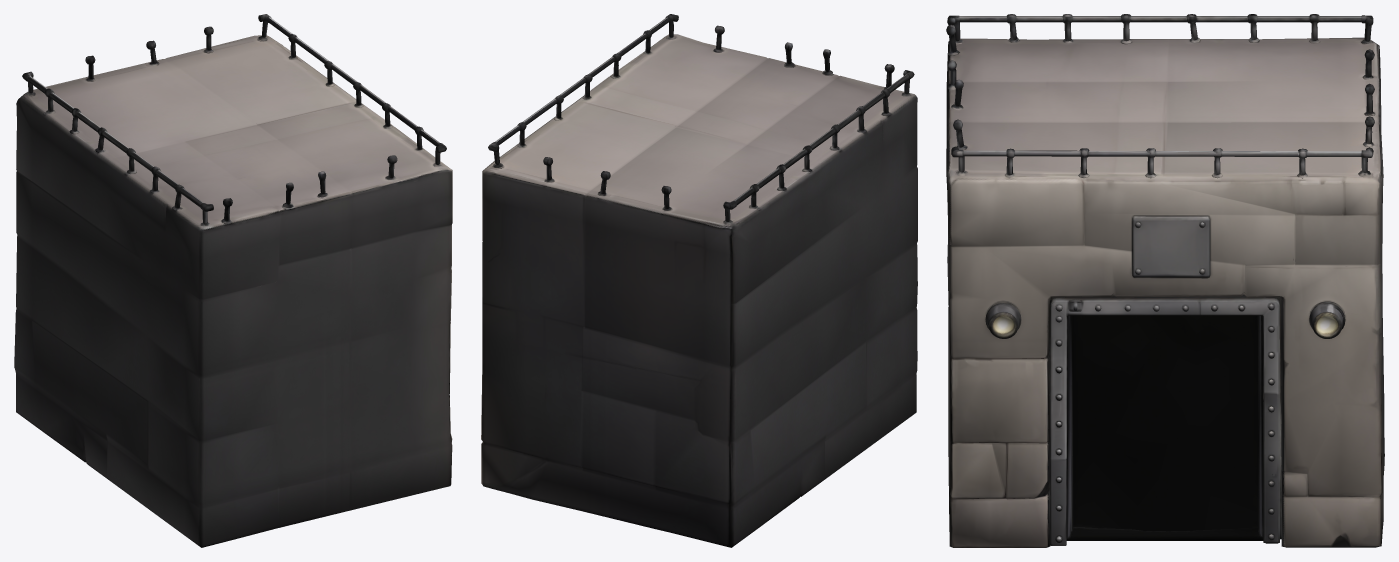
3 views of the same model, side by side, from view 1: azimuth 30°, elevation 25°; view 2: azimuth 150°, elevation 25°; view 3: azimuth 270°, elevation 25° (orthographic). The views are drawn at different scales.
Visible parts, largest first — view 1: tripo_node_8039b2e1-08fd-45e0-af36-5d665c4a3227; view 2: tripo_node_8039b2e1-08fd-45e0-af36-5d665c4a3227; view 3: tripo_node_8039b2e1-08fd-45e0-af36-5d665c4a3227.
Boxes of the visible parts, x1,y1,x2,y2 form: tripo_node_8039b2e1-08fd-45e0-af36-5d665c4a3227: [14, 14, 452, 547]; tripo_node_8039b2e1-08fd-45e0-af36-5d665c4a3227: [481, 14, 917, 547]; tripo_node_8039b2e1-08fd-45e0-af36-5d665c4a3227: [946, 14, 1384, 547].
Bounding box in the file's own units: 0.8198 × 0.9995 × 0.9966.
1 material, 1 textured.
